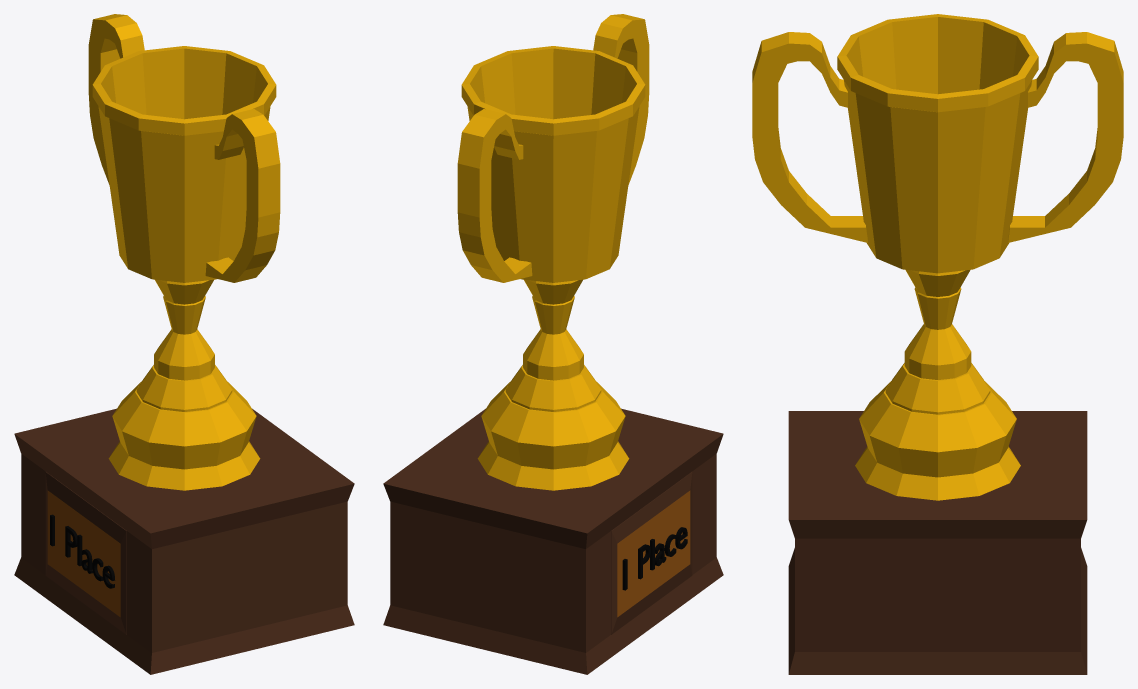
Rendered from Pokal.fbx.
3 renders of one model, left to right at view 1: azimuth 30°, elevation 25°; view 2: azimuth 150°, elevation 25°; view 3: azimuth 270°, elevation 25°, orthographic. The views are drawn at different scales.
Visible parts, largest first — view 1: Pokal; view 2: Pokal; view 3: Pokal.
Boxes of the visible parts, x1,y1,x2,y2 form: Pokal: (14,14,354,674); Pokal: (383,14,723,674); Pokal: (752,14,1123,674).
Bounding box in the file's own units: 121 × 300 × 173.
